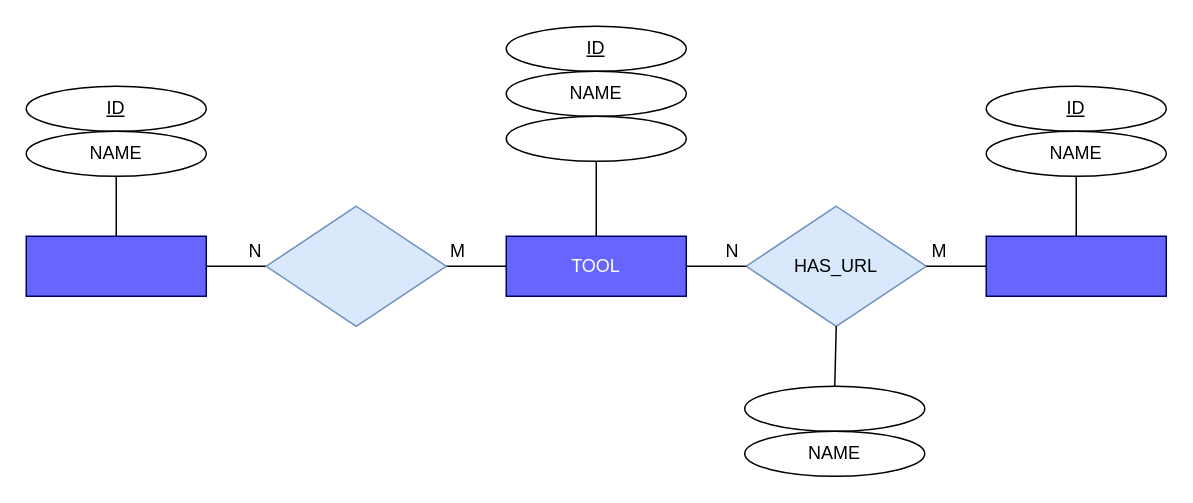
The diagram is 1193 pixels wide and 503 high, and some of its shapes have lost their labels. The centre of each missing label's shape, as x and y in pixels:
HAS_TAG: point 355,265
IMG: point 595,138
TAG_TYPE: point 115,265
URL: point 834,408
URL_TYPE: point 1075,265
